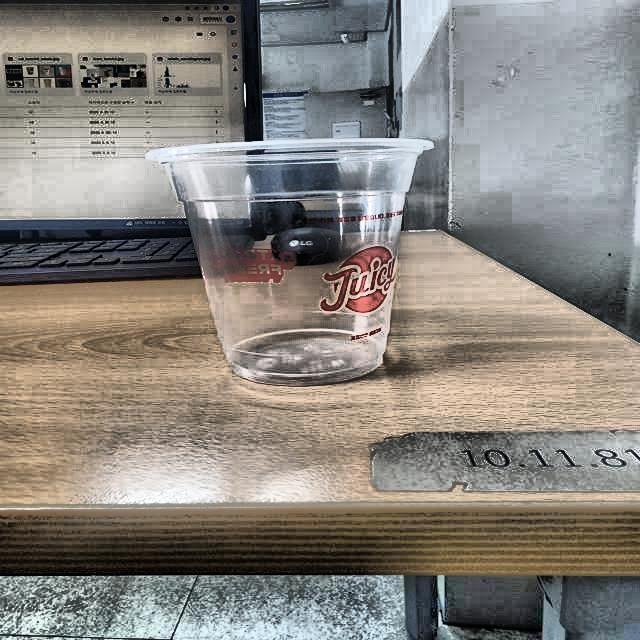plastic cup: (144, 135, 438, 385)
